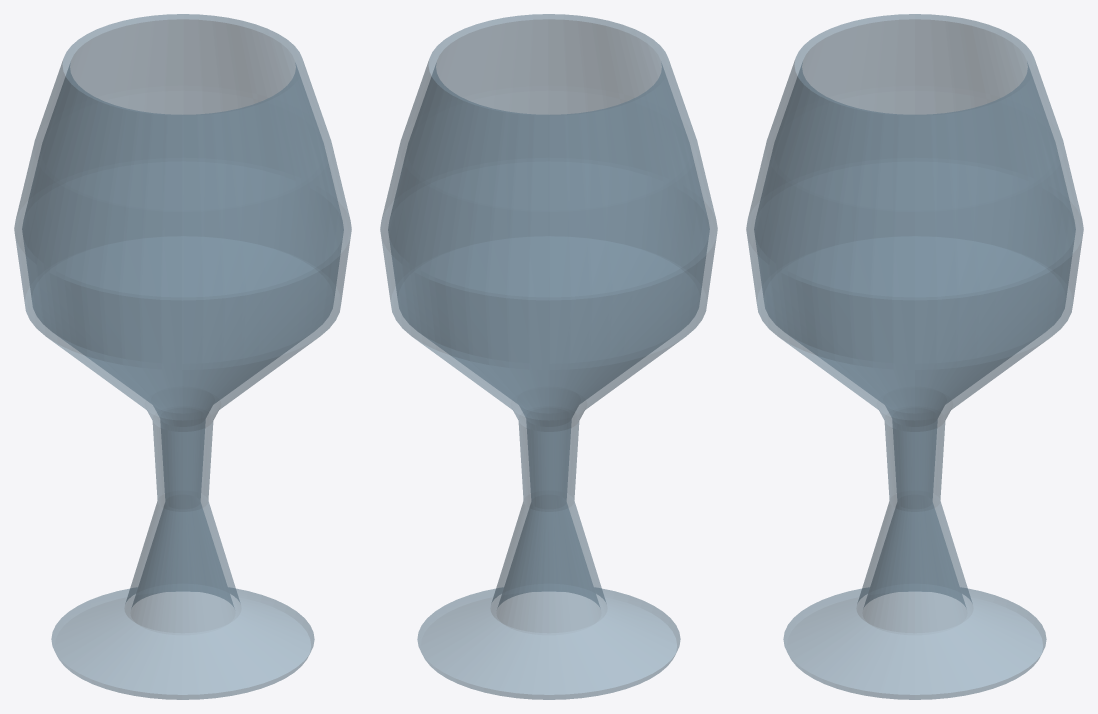
The model's file is goblet.dae.
3 views of the same model, side by side, from view 1: azimuth 30°, elevation 25°; view 2: azimuth 150°, elevation 25°; view 3: azimuth 270°, elevation 25° (orthographic).
Parts seen in each view (by area): view 1: goblet; view 2: goblet; view 3: goblet.
Boxes of the visible parts, x1,y1,x2,y2 form: goblet: (14, 14, 351, 699); goblet: (380, 14, 717, 699); goblet: (746, 14, 1083, 699).
Bounding box in the file's own units: 2.11 × 4 × 2.11.
